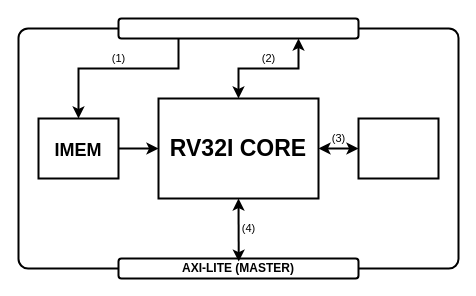
Image size: 476x296. Some labels were removed from this diagram. The shapes that lost their labels are listed below. From the top down, each one's centre as x and y in pixels, then its label:
(x=238, y=28): AXI-LITE (SLAVE)
(x=398, y=148): DMEM
